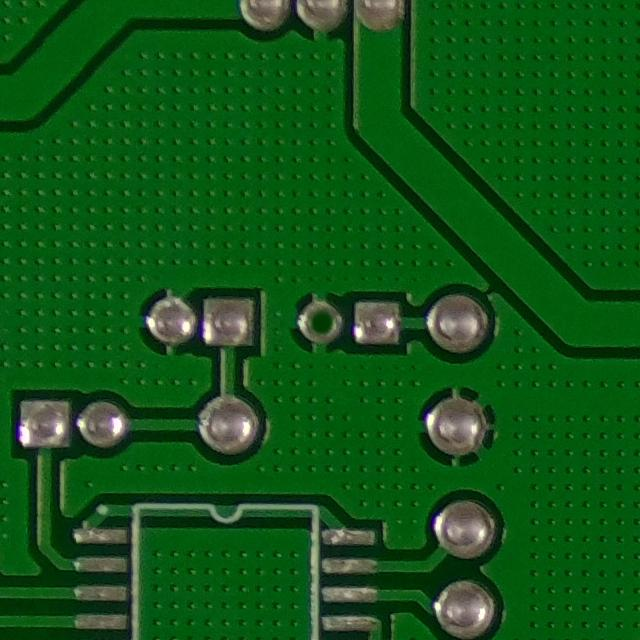missing_hole: (296, 288, 347, 350)
